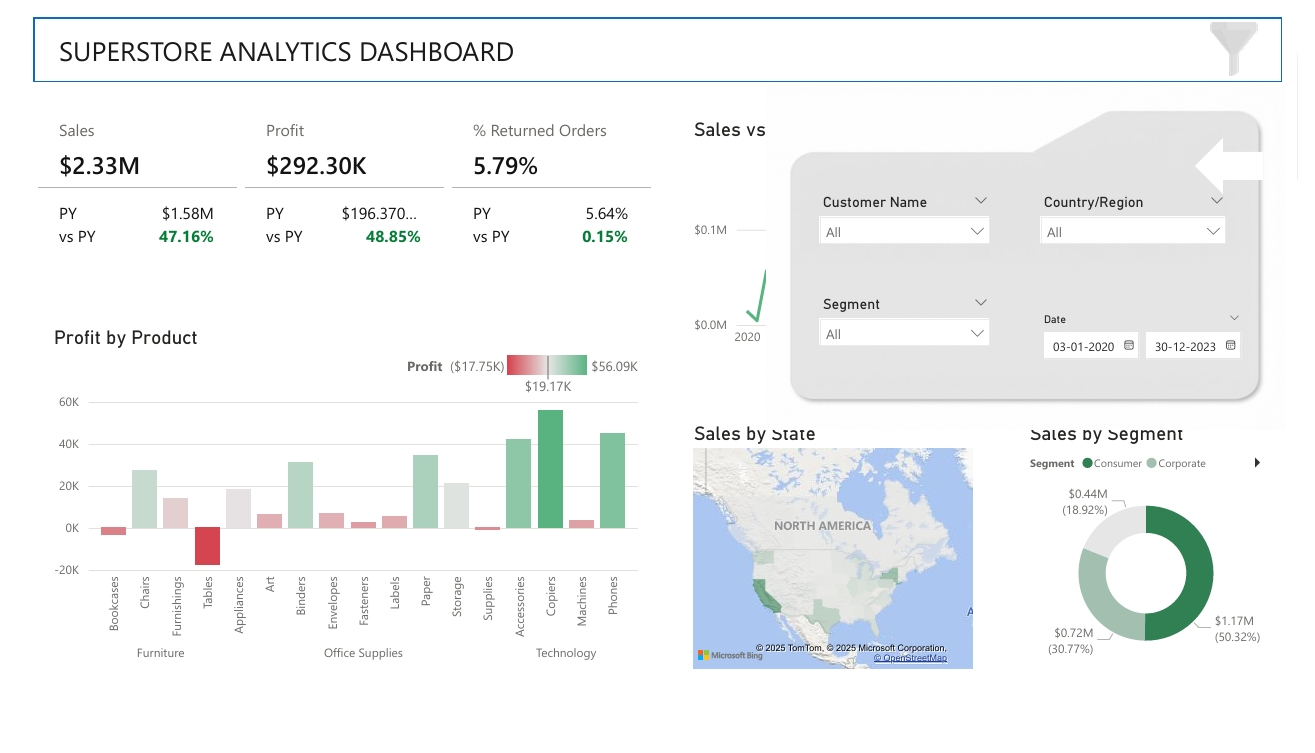

Layout of this report page (visuals, bound fields, positions):
{"tool":"powerbi","page":{"name":"Page 1","canvas":[1280,720],"ordinal":0},"visuals":[{"type":"cardVisual","fields":{"Data":["Key Measures.Sales","Key Measures.Profit","Key Measures.% Returned Orders"]},"box":[16,80,624,176],"z":0},{"type":"shape","box":[16,0,1248,64],"z":1000},{"type":"image","title":"filter","box":[1176,0,80,64],"z":1000,"group":"g1"},{"type":"lineChart","title":"Sales vs Previous year over time","fields":{"Y":["Key Measures.Sales"],"Category":["Date Table.Start of month"],"Y2":["Key Measures.vs PY - Sales"]},"box":[656,80,608,272],"z":2000},{"type":"columnChart","title":"Profit by Product","fields":{"Category":["Orders.Category","Orders.Sub-Category"],"Y":["Sum(Orders.Profit)"]},"box":[16,288,624,384],"z":3000},{"type":"filledMap","title":"Sales by State","fields":{"Category":["Orders.State/Province"]},"box":[656,384,320,288],"z":4000},{"type":"donutChart","title":"Sales by Segment","fields":{"Category":["Orders.Segment"],"Y":["Key Measures.Sales"]},"box":[992,384,272,288],"z":5000},{"type":"group","id":"g1","title":"slicer pane","box":[744,0,528,432],"z":6000}]}

Visuals, with their boxes in screenshot pixels (x1, y1, x2, y2), scaled from the page's 1280x720 canvas onto the 1315x753 screenshot:
cardVisual - Key Measures.Sales x Key Measures.Profit: locate(16, 84, 658, 268)
shape: locate(16, 0, 1299, 67)
"filter" image: locate(1208, 0, 1290, 67)
"Sales vs Previous year over time" lineChart: locate(674, 84, 1299, 368)
"Profit by Product" columnChart: locate(16, 301, 658, 703)
"Sales by State" filledMap: locate(674, 402, 1003, 703)
"Sales by Segment" donutChart: locate(1019, 402, 1299, 703)
"slicer pane" group: locate(764, 0, 1307, 452)
